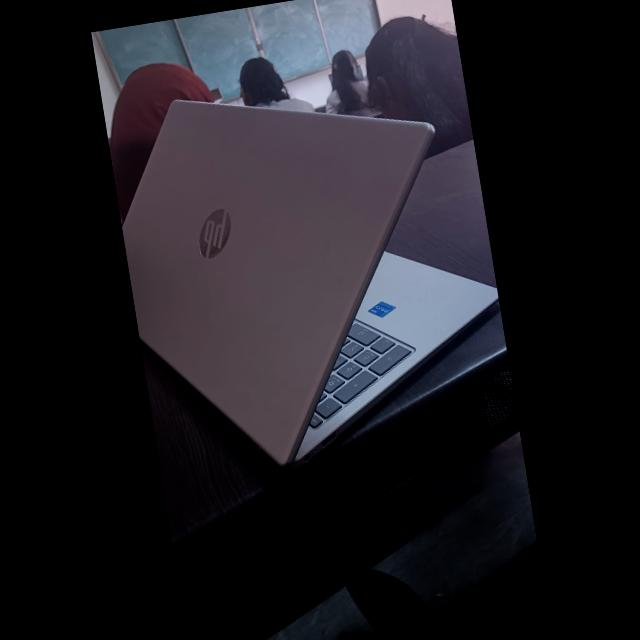laptop: (102, 41, 515, 493)
